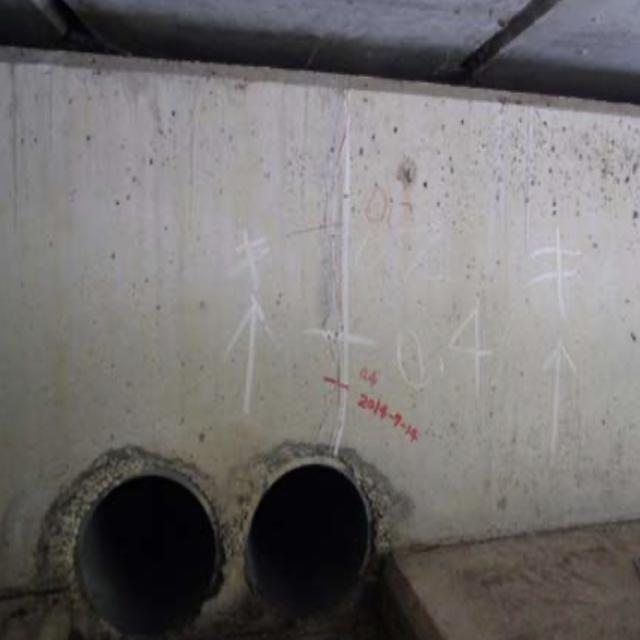freelime: (307, 94, 372, 380)
